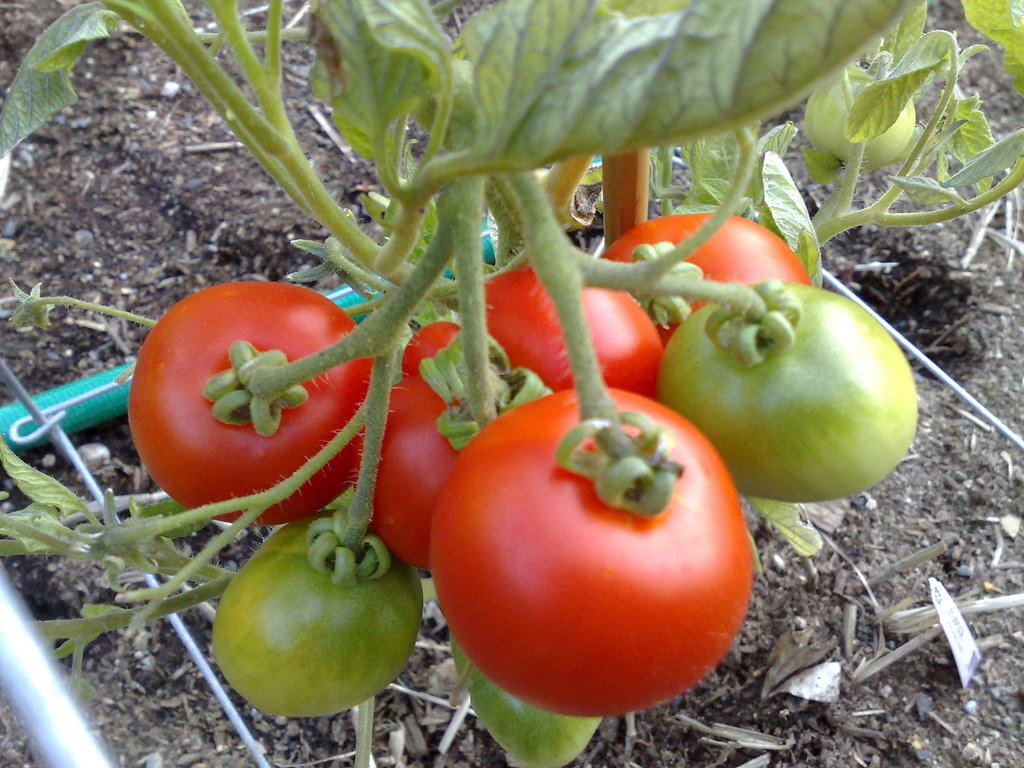Tomato: (422, 384, 755, 716), (128, 282, 377, 518), (662, 282, 925, 504), (355, 317, 558, 571), (213, 509, 421, 730), (593, 213, 821, 337), (480, 265, 666, 388)
